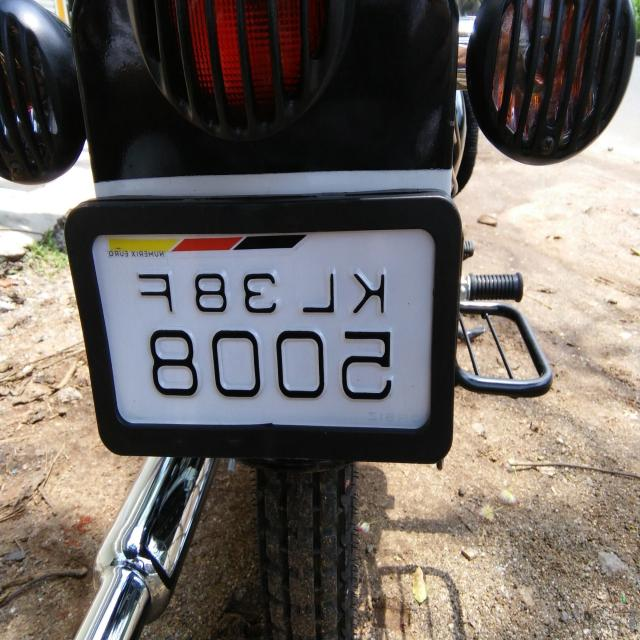number-plate: (86, 208, 433, 466)
